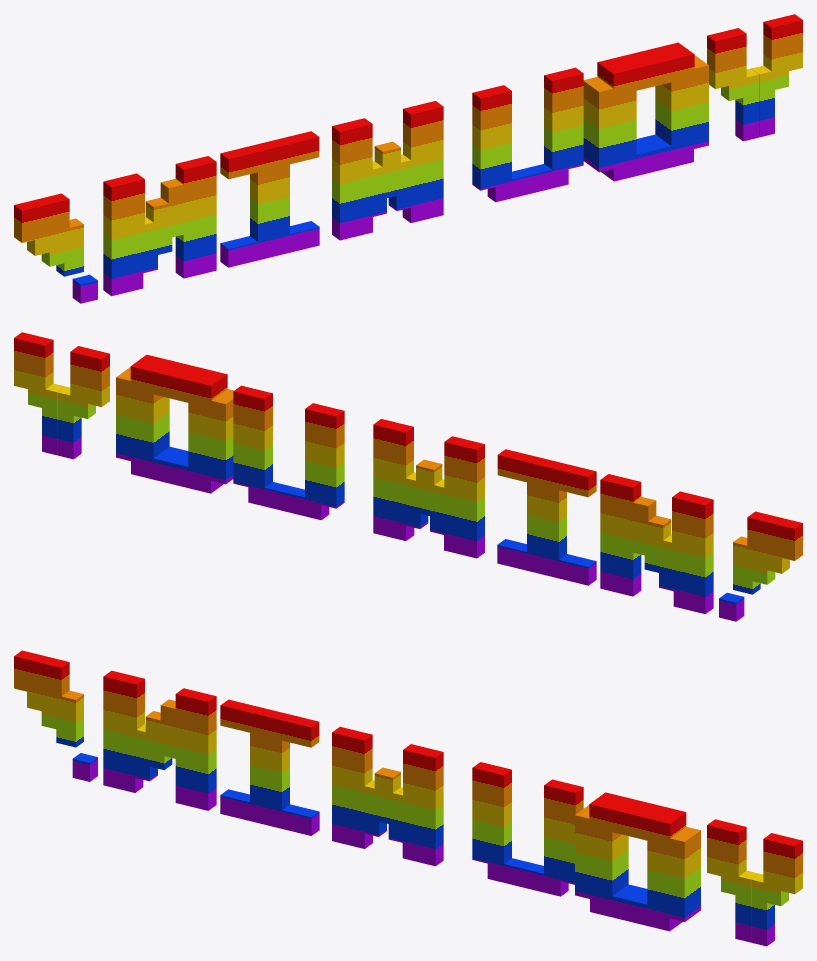
Rendered from YouWin.fbx.
The picture shows the model from 3 angles, top to bottom: view 1: azimuth 30°, elevation 25°; view 2: azimuth 150°, elevation 25°; view 3: azimuth 330°, elevation 25°; orthographic projection.
Parts seen in each view (by area): view 1: YouWin; view 2: YouWin; view 3: YouWin.
Boxes of the visible parts, x1,y1,x2,y2 form: YouWin: (14,14,802,303); YouWin: (14,332,802,621); YouWin: (14,650,802,946).
Bounding box in the file's own units: 680 × 90.68 × 24.3.
